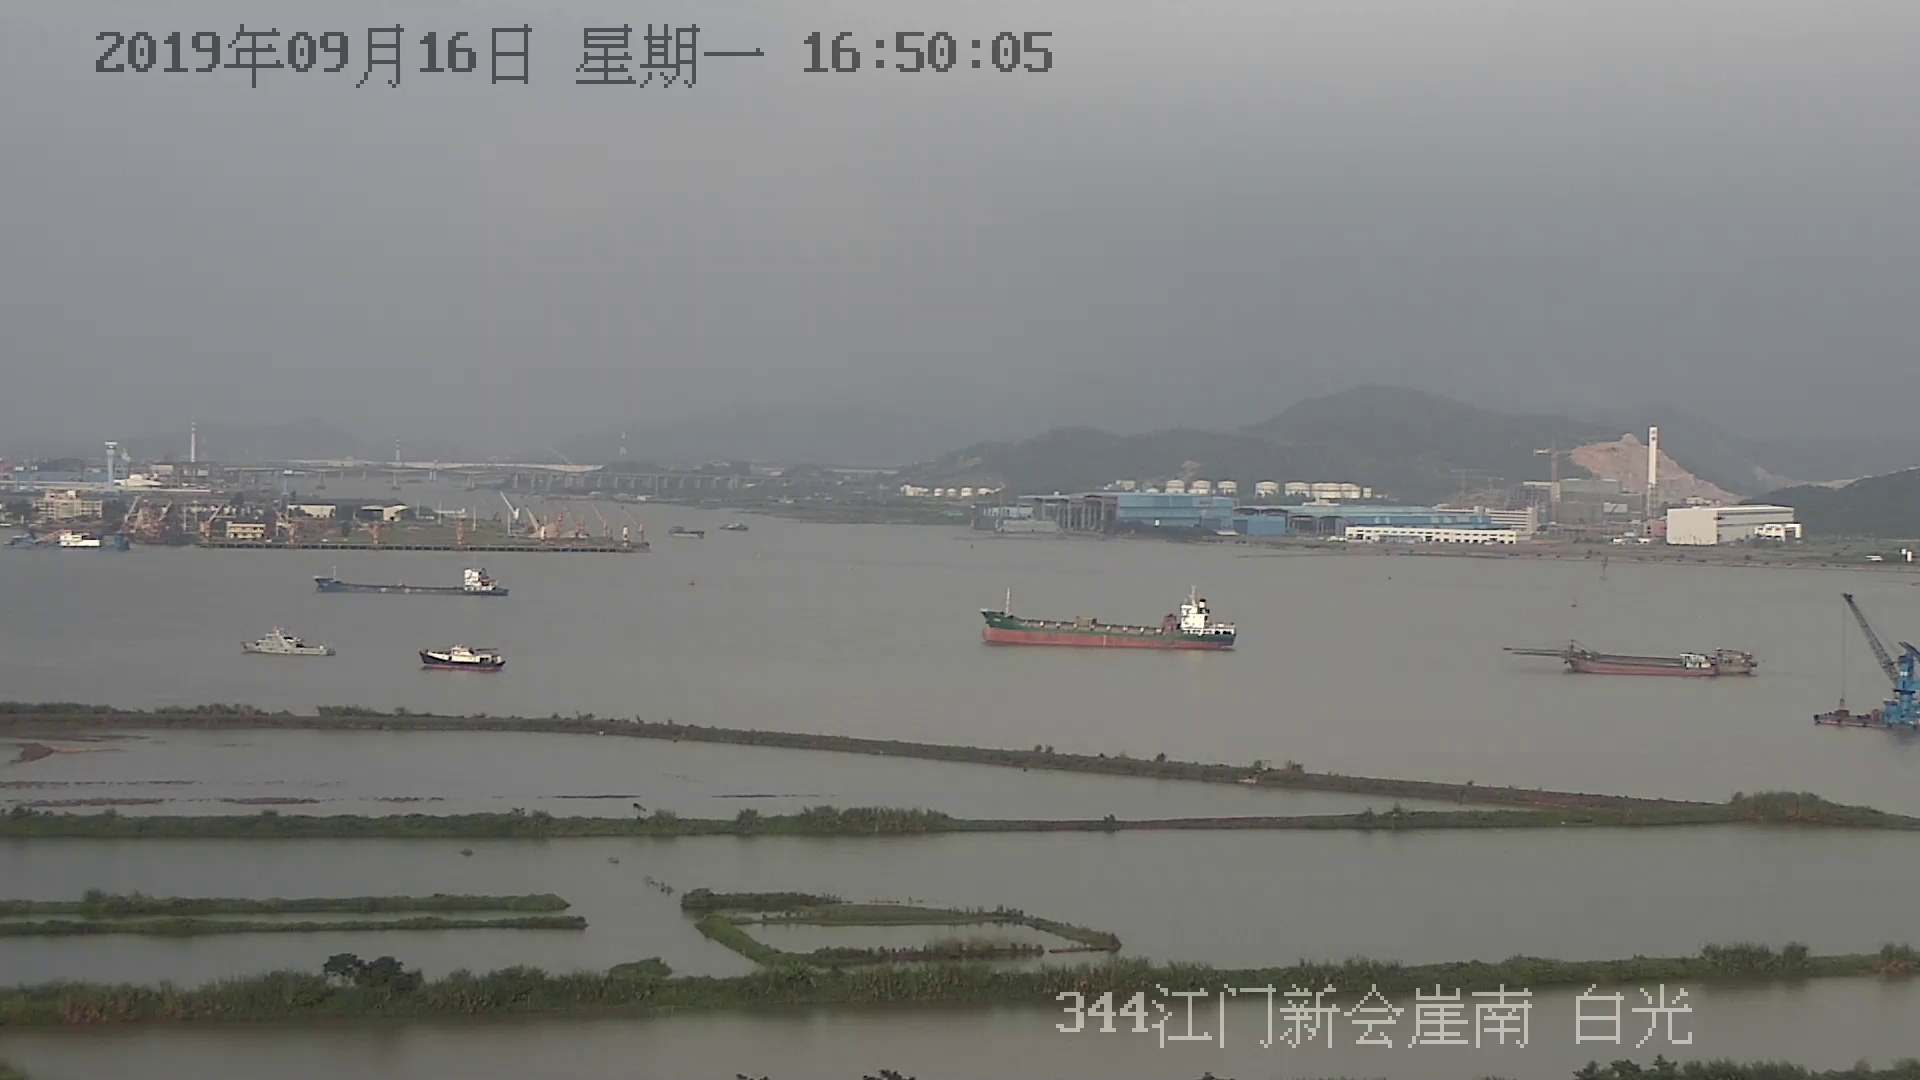ship: (977, 578, 1241, 650), (1505, 638, 1759, 676), (314, 567, 514, 597), (243, 630, 335, 658), (418, 646, 506, 673)
